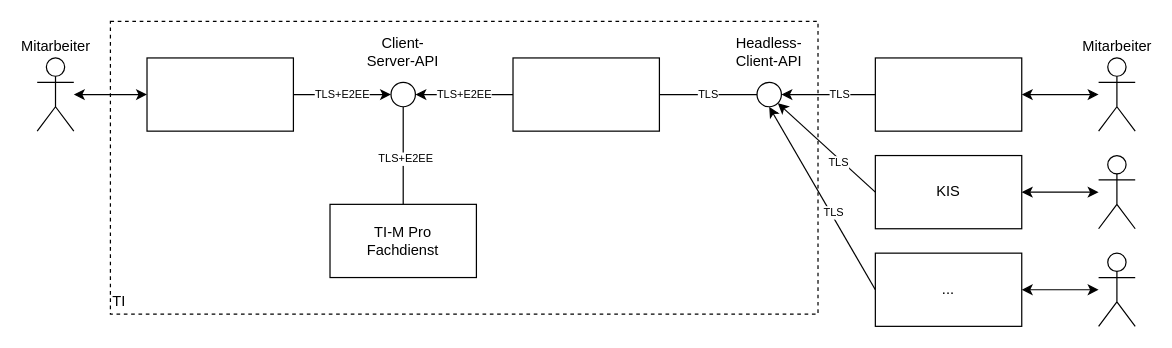
This 1172x348 diagram has some shape labels left out. Each missing label, with the box of its shape:
Headless Client: (512, 57, 659, 131)
PVS: (874, 57, 1022, 131)
TI-M Pro Client: (146, 57, 293, 131)
